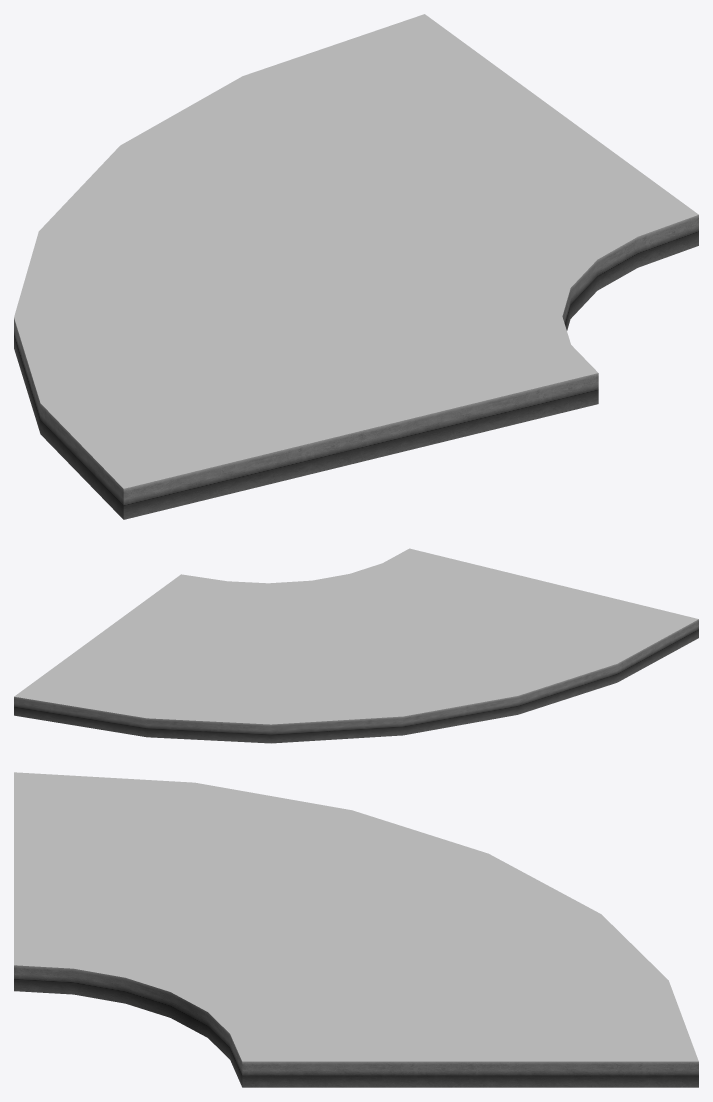
File: Bend1x1.fbx
3 views of the same model, one above another, from view 1: azimuth 30°, elevation 25°; view 2: azimuth 150°, elevation 25°; view 3: azimuth 270°, elevation 25° (orthographic). The views are drawn at different scales.
Parts seen in each view (by area): view 1: Empty_Mesh; view 2: Empty_Mesh; view 3: Empty_Mesh.
Part boxes in pixels (bbox=[...]): Empty_Mesh: bbox=[14, 14, 698, 519]; Empty_Mesh: bbox=[14, 548, 698, 743]; Empty_Mesh: bbox=[14, 772, 698, 1087].
Bounding box in the file's own units: 2400 × 100 × 2400.
